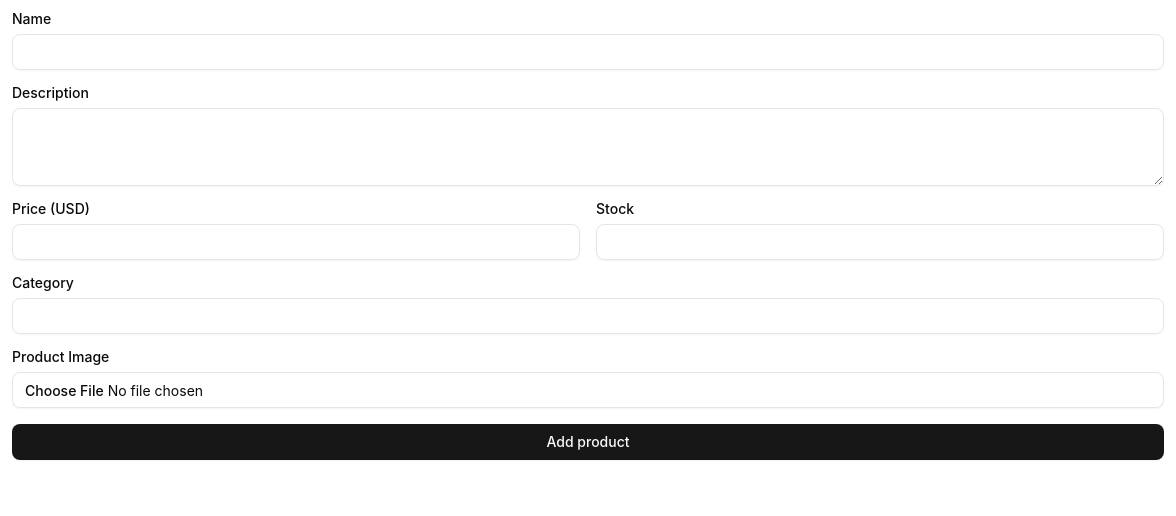
it: ProductForm › shows a generic error message when the rejection has no error message
In the field labelled "Name": (588, 52) [12, 34, 1164, 70], type "Wireless Mouse"
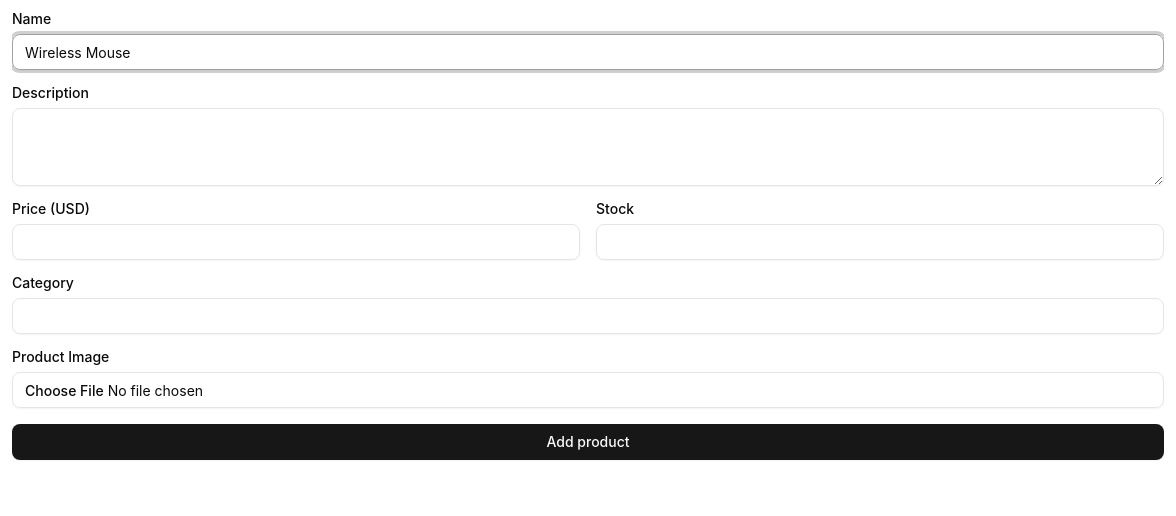
In the number field labelled "Price (USD)": (296, 242) [12, 224, 580, 260], type "29.99"
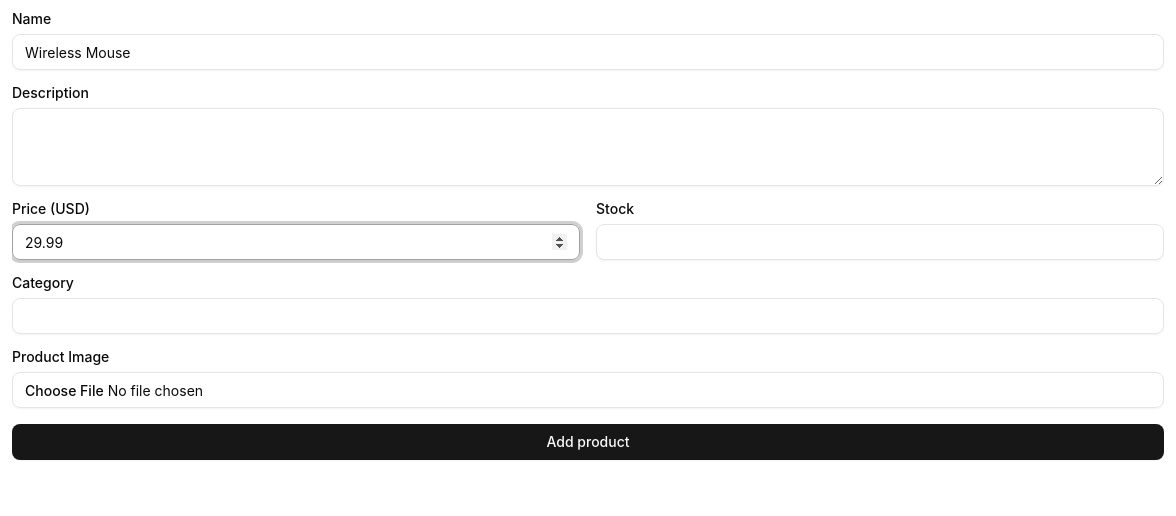
In the number field labelled "Stock": (880, 242) [596, 224, 1164, 260], type "10"
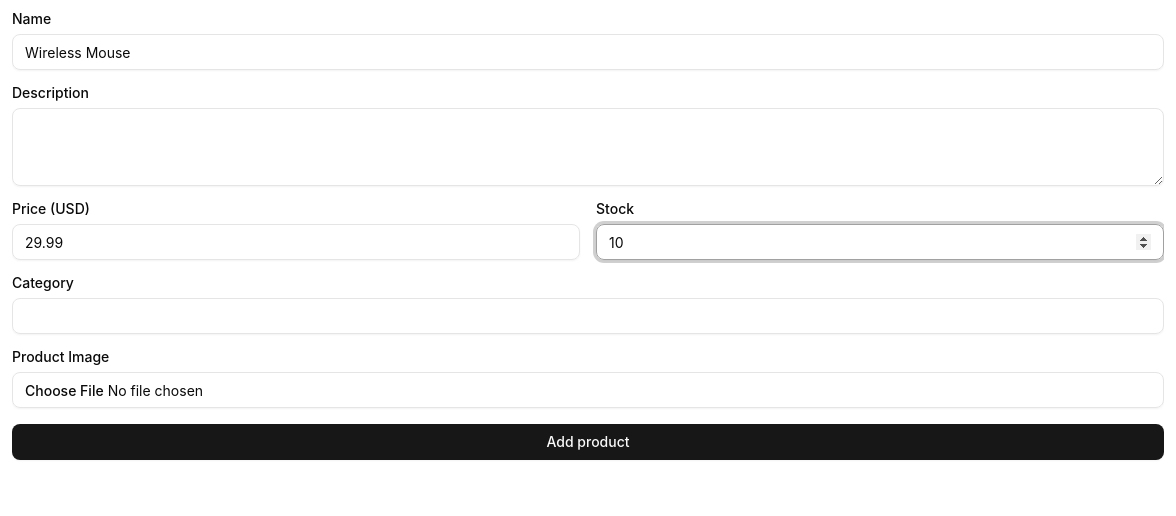
In the field labelled "Category": (588, 316) [12, 298, 1164, 334], type "electronics"
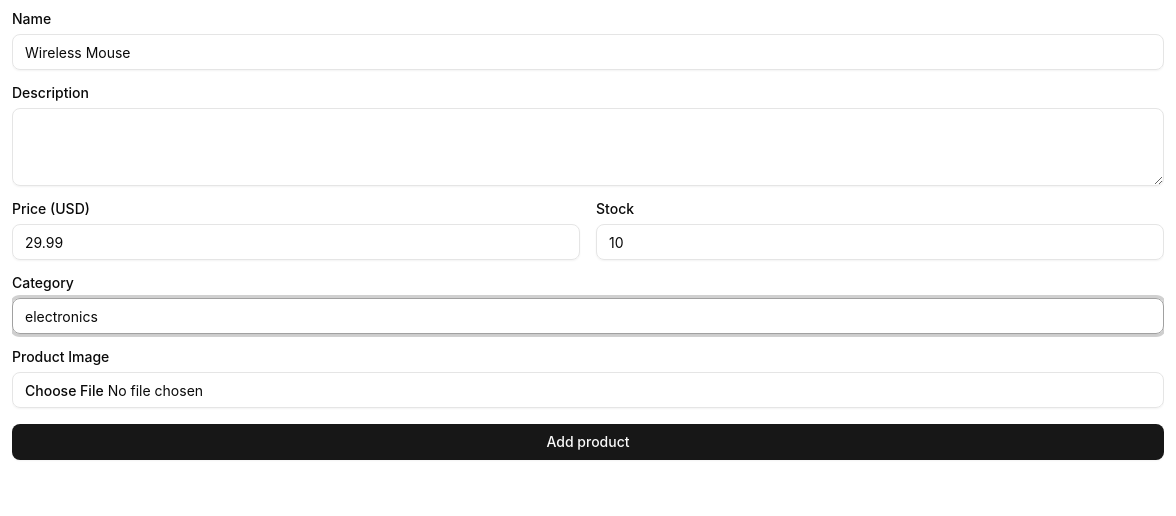
Click the button "Add product": (588, 442) [12, 424, 1164, 460]
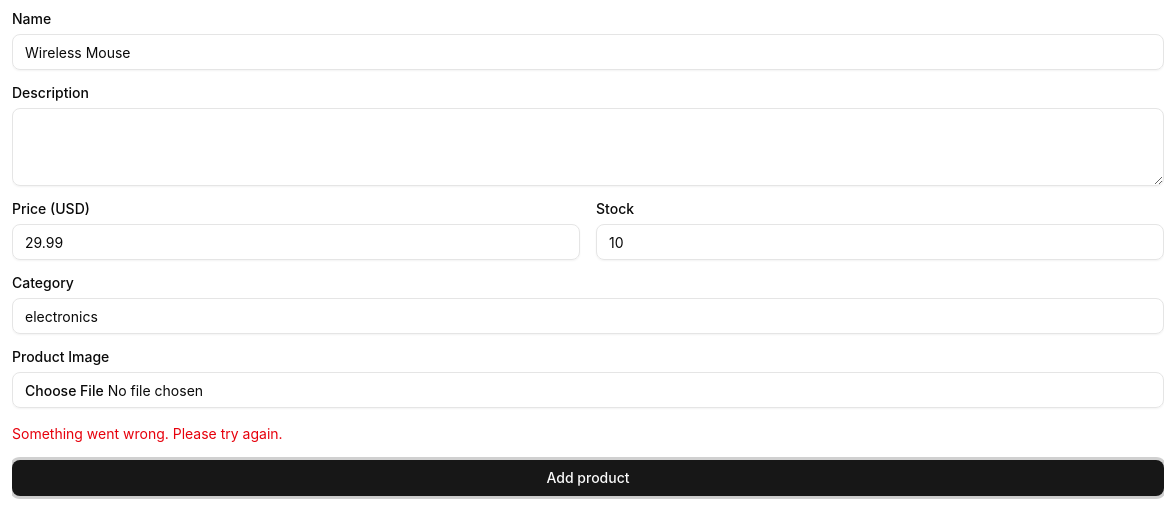
Now the text "Something went wrong. Please try again." is shown, box [12, 425, 283, 442]
